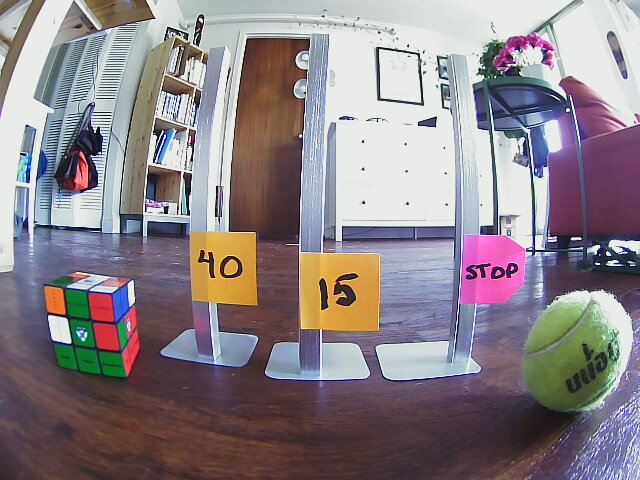15: (298, 251, 380, 330)
40: (191, 238, 257, 306)
ball: (525, 290, 632, 412)
cube: (45, 273, 140, 377)
stop: (462, 233, 520, 303)
